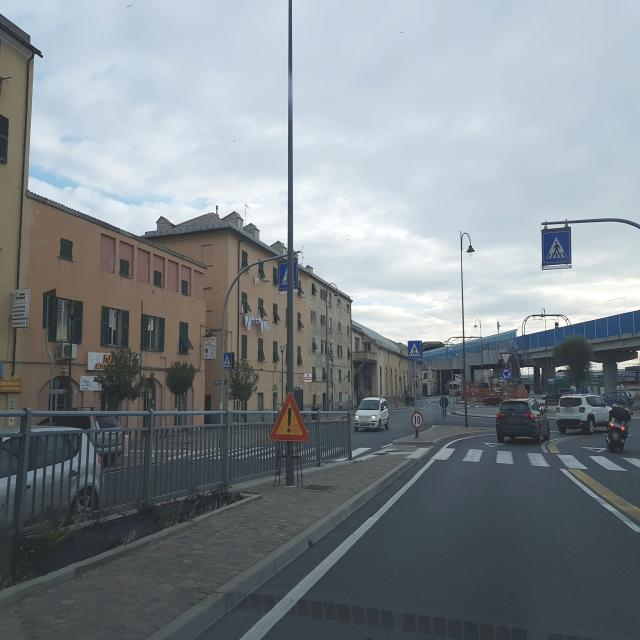bike: (605, 411, 631, 453)
car: (14, 409, 124, 465), (495, 396, 551, 445), (555, 392, 613, 436), (354, 396, 389, 432)
